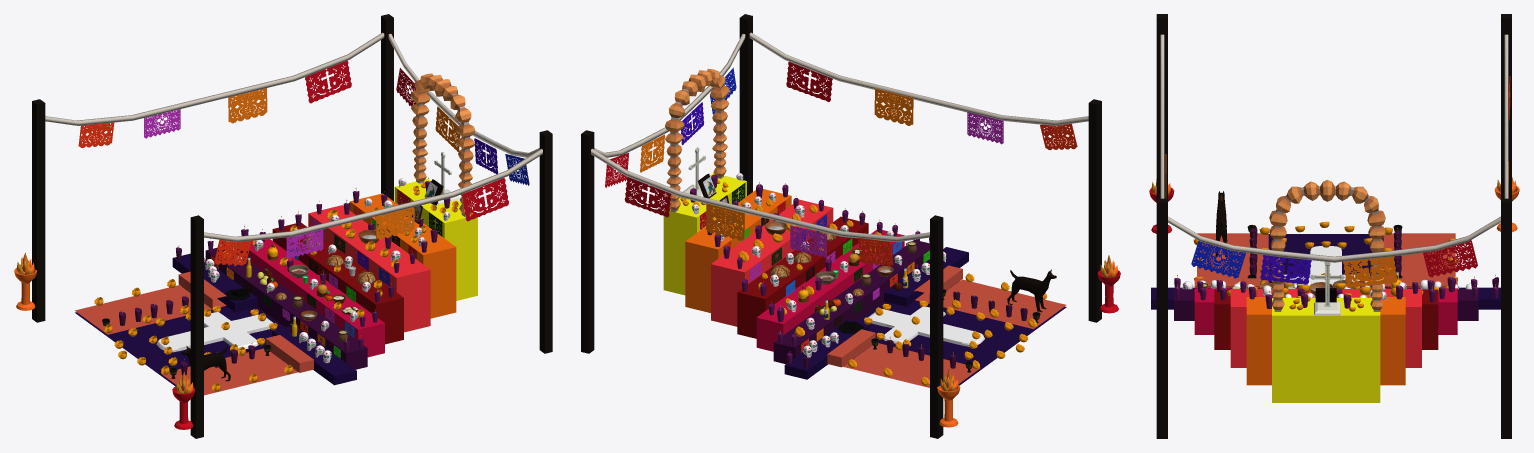
Rendered from ofrendaFinalZonaC.obj.
3 views of the same model, side by side, from view 1: azimuth 30°, elevation 25°; view 2: azimuth 150°, elevation 25°; view 3: azimuth 270°, elevation 25° (orthographic). The views are drawn at different scales.
Parts seen in each view (by area): view 1: Plane_poste, Plane.006_Material.032, Plane_cuerdas_poste, Cube.008_ALTAR.001, Plane.006_Material.036, Plane.006_Material.034, Plane.006_Material.033, Plane.006_Material.037, Plane.006_Material.035, Cube.022_@Material_Arco, Plane.006_Material.038, Plane.007_salesita.002 (+12 smaller); view 2: Plane_poste, Plane.006_Material.032, Plane_cuerdas_poste, Cube.008_ALTAR.001, Plane.006_Material.036, Plane.006_Material.033, Plane.006_Material.035, Cube.022_@Material_Arco, Plane.006_Material.037, Plane.006_Material.034, Plane.006_Material.038, Plane.007_salesita.002 (+13 smaller); view 3: Plane.006_Material.038, Plane_poste, Plane.006_Material.037, Plane_cuerdas_poste, Cube.022_@Material_Arco, Cube.008_ALTAR.001, Plane.006_Material.036, Plane.006_Material.032, Plane.006_Material.035, Plane.006_Material.034, Plane.062_Material.031, Plane.006_Material.033 (+8 smaller).
Part boxes in pixels (x1=…): Plane_poste: x1=32, y1=14, x2=552, y2=438; Plane.006_Material.032: x1=75, y1=253, x2=356, y2=386; Plane_cuerdas_poste: x1=45, y1=32, x2=542, y2=242; Cube.008_ALTAR.001: x1=75, y1=285, x2=297, y2=395; Plane.006_Material.036: x1=308, y1=205, x2=430, y2=332; Plane.006_Material.034: x1=237, y1=239, x2=384, y2=357; Plane.006_Material.033: x1=205, y1=247, x2=367, y2=369; Plane.006_Material.037: x1=349, y1=193, x2=456, y2=318; Plane.006_Material.035: x1=272, y1=222, x2=403, y2=344; Cube.022_@Material_Arco: x1=410, y1=73, x2=475, y2=216; Plane.006_Material.038: x1=394, y1=178, x2=477, y2=300; Plane.007_salesita.002: x1=156, y1=312, x2=272, y2=352; Plane_poste: x1=581, y1=14, x2=1101, y2=438; Plane.006_Material.032: x1=784, y1=247, x2=1066, y2=385; Plane_cuerdas_poste: x1=591, y1=32, x2=1088, y2=242; Cube.008_ALTAR.001: x1=843, y1=279, x2=1066, y2=387; Plane.006_Material.036: x1=711, y1=199, x2=833, y2=326; Plane.006_Material.033: x1=773, y1=239, x2=929, y2=364; Plane.006_Material.035: x1=737, y1=216, x2=868, y2=338; Cube.022_@Material_Arco: x1=665, y1=68, x2=729, y2=212; Plane.006_Material.037: x1=685, y1=189, x2=791, y2=312; Plane.006_Material.034: x1=756, y1=229, x2=904, y2=351; Plane.006_Material.038: x1=663, y1=173, x2=746, y2=295; Plane.007_salesita.002: x1=868, y1=306, x2=984, y2=346; Plane.006_Material.038: x1=1272, y1=298, x2=1380, y2=402; Plane_poste: x1=1156, y1=14, x2=1511, y2=438; Plane.006_Material.037: x1=1246, y1=297, x2=1405, y2=385; Plane_cuerdas_poste: x1=1160, y1=34, x2=1508, y2=262; Cube.022_@Material_Arco: x1=1269, y1=180, x2=1385, y2=311; Cube.008_ALTAR.001: x1=1197, y1=233, x2=1455, y2=278; Plane.006_Material.036: x1=1230, y1=289, x2=1421, y2=367; Plane.006_Material.032: x1=1151, y1=234, x2=1500, y2=309; Plane.006_Material.035: x1=1214, y1=289, x2=1438, y2=349; Plane.006_Material.034: x1=1194, y1=288, x2=1457, y2=334; Plane.062_Material.031: x1=1343, y1=256, x2=1397, y2=287; Plane.006_Material.033: x1=1174, y1=289, x2=1478, y2=320.
Bounding box in the file's own units: 111 × 62.47 × 87.32.
164 materials, 90 textured.
